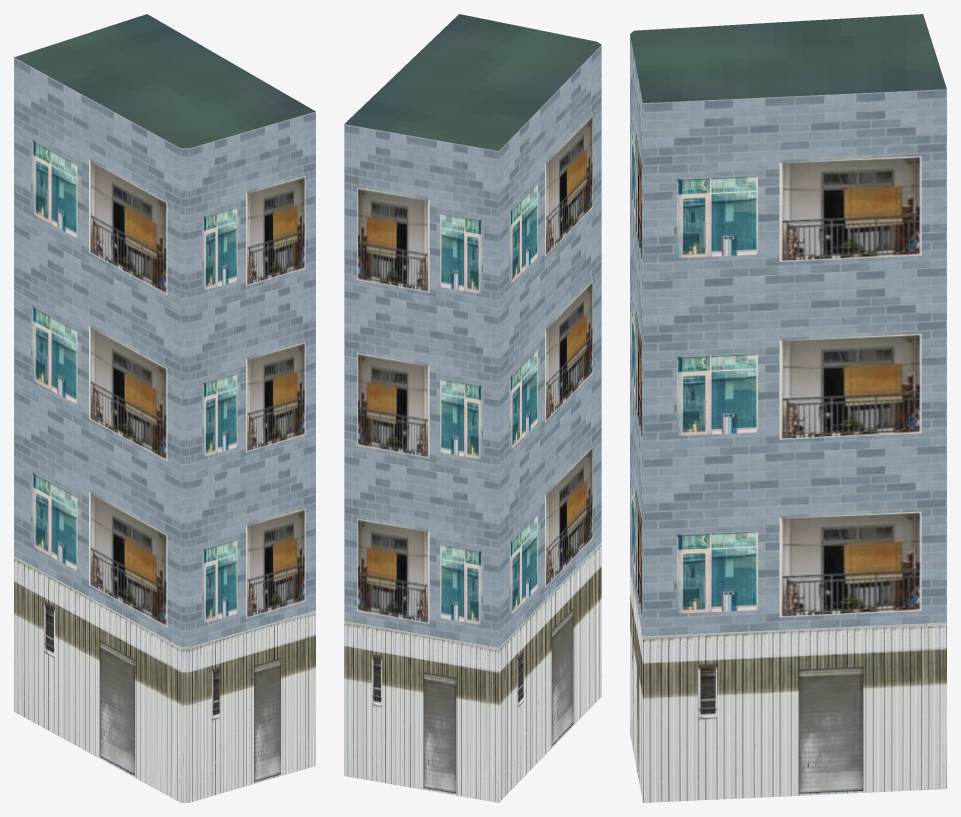
The model's file is T_1SVVW4NVEG.dae.
The picture shows the model from 3 angles, left to right: view 1: azimuth 30°, elevation 25°; view 2: azimuth 150°, elevation 25°; view 3: azimuth 270°, elevation 25°; orthographic projection. The views are drawn at different scales.
Visible parts, largest first — view 1: SketchUp (×3); view 2: SketchUp (×3); view 3: SketchUp (×3).
Part boxes in pixels (x1,y1,x2,y2): SketchUp (×3): (14, 14, 315, 802); SketchUp (×3): (344, 14, 601, 802); SketchUp (×3): (630, 14, 946, 802).
Bounding box in the file's own units: 149 × 224 × 546.
Materials: 3 (3 with a texture image).
